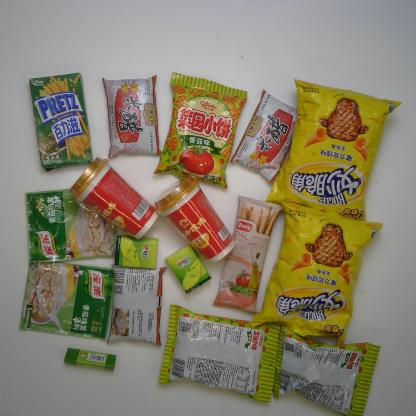Dessert: (212, 192, 284, 314), (28, 73, 95, 169)
Instant Drink: (66, 157, 160, 241), (152, 175, 236, 264)
Puffed Food: (265, 76, 404, 222), (251, 200, 385, 348), (157, 302, 281, 404), (151, 70, 248, 191), (271, 322, 381, 416)
Seasoner: (17, 258, 115, 340), (24, 186, 119, 265), (229, 86, 298, 184), (101, 75, 164, 160), (105, 262, 167, 348)
Stationery: (61, 347, 118, 373)
Tissue: (163, 243, 213, 293), (113, 233, 158, 269)
